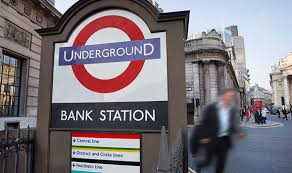London Underground: (55, 17, 162, 93)
